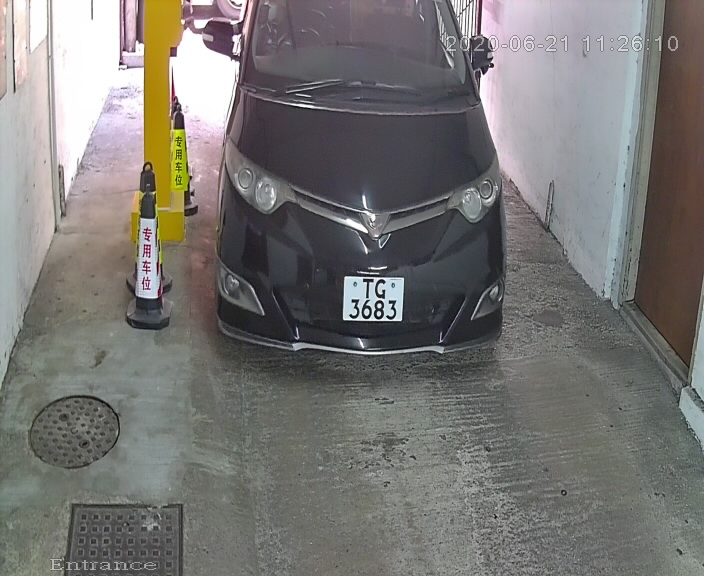privatecar: (197, 1, 530, 402)
